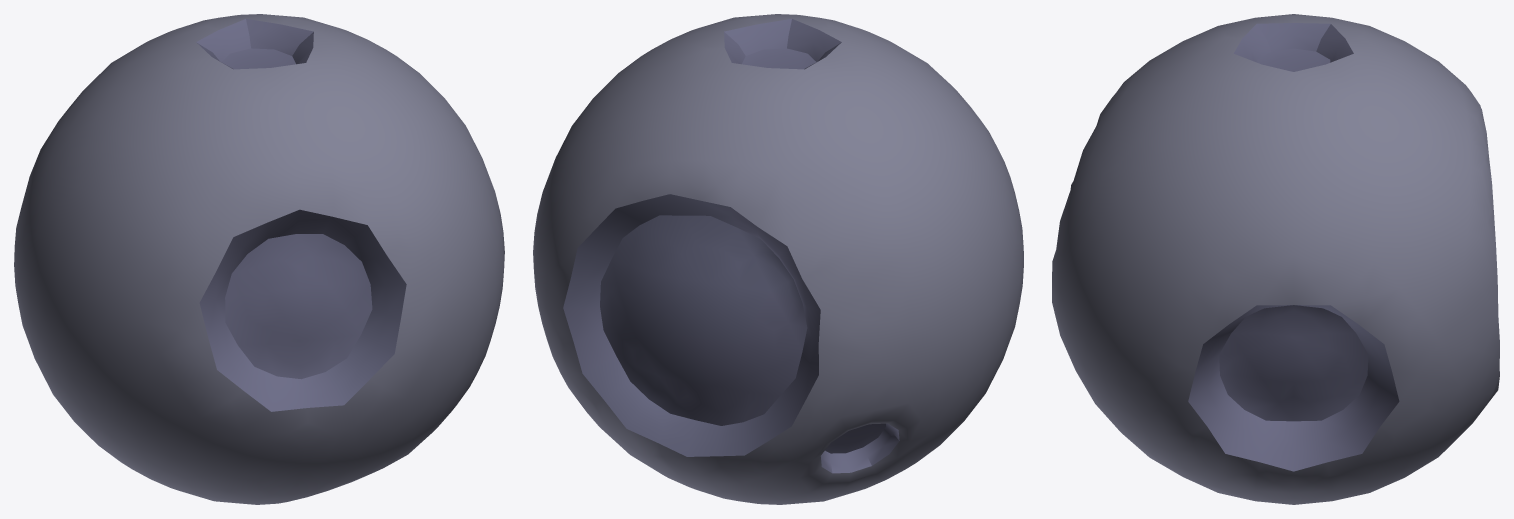
Rendered from Planet-transformed.glb.
3 views of the same model, side by side, from view 1: azimuth 30°, elevation 25°; view 2: azimuth 150°, elevation 25°; view 3: azimuth 270°, elevation 25° (orthographic).
Parts seen in each view (by area): view 1: Planet_3; view 2: Planet_3; view 3: Planet_3.
Part boxes in pixels (x1,y1,x2,y2): Planet_3: (14,14,504,504); Planet_3: (533,14,1023,504); Planet_3: (1052,14,1499,504).
Size of the model in its own units: 3.66 by 3.68 by 3.41.
Materials: 1 (1 with a texture image).
